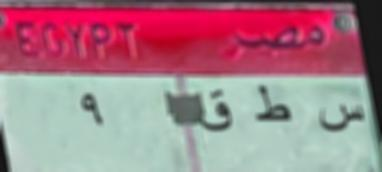9: (76, 90, 105, 129)
Taa: (250, 80, 292, 134)
qaaf: (194, 82, 235, 146)
seen: (316, 98, 368, 138)
